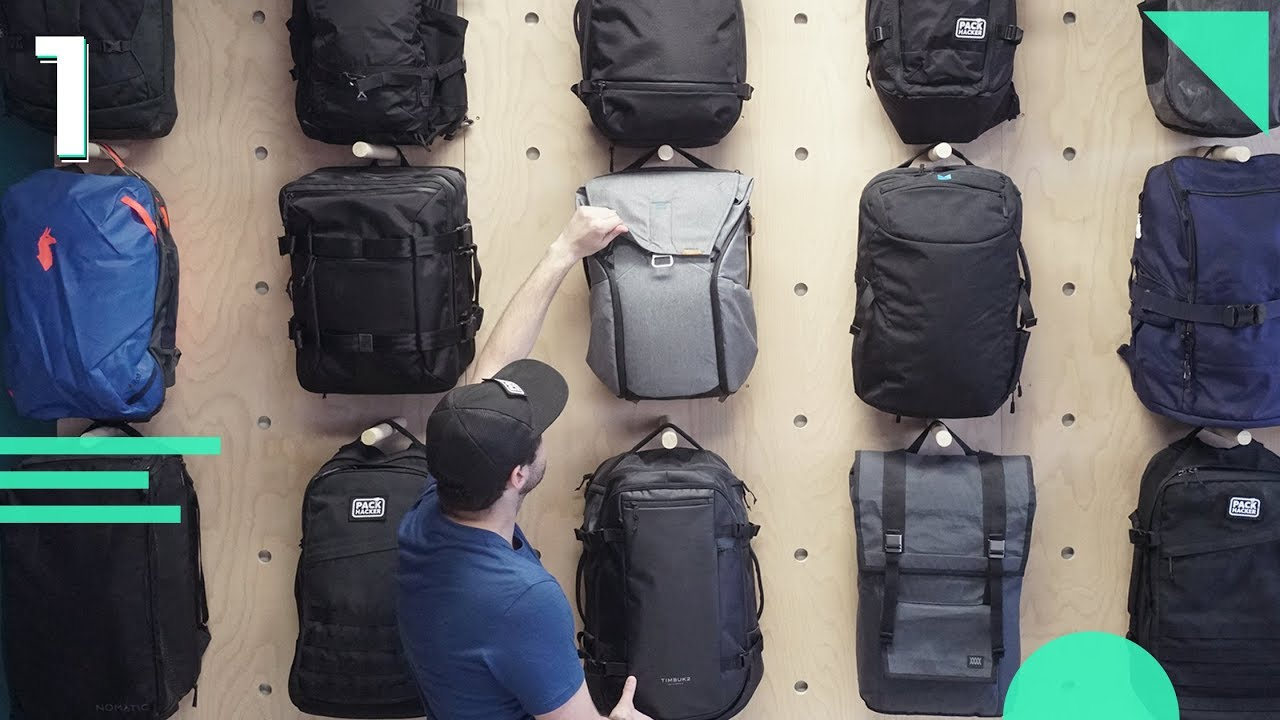backpack: (266, 423, 496, 720), (570, 423, 777, 720), (842, 440, 1040, 720), (283, 148, 490, 410), (562, 153, 769, 414), (1, 149, 187, 430), (843, 153, 1032, 428), (1122, 137, 1280, 425), (1129, 439, 1277, 720), (289, 1, 482, 152), (568, 1, 749, 162), (861, 1, 1021, 160)
